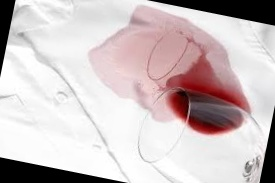wine: (90, 5, 235, 115), (139, 64, 251, 133), (132, 0, 188, 33)
